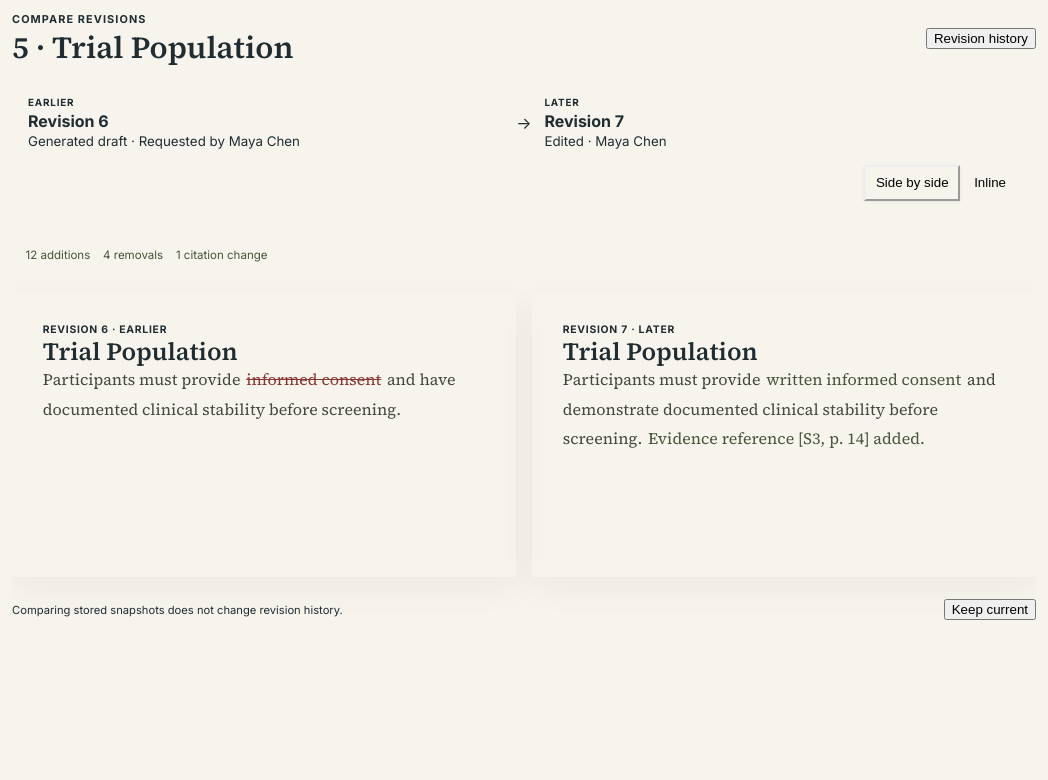
Scenario: RevisionCompare and RestoreRevisionDialog › renders semantic segments, exact counts, and switches view
Expected: the text "informed consent" is shown, left=244, top=367, right=383, bottom=391
Expected: the text "written informed consent" is shown, left=764, top=367, right=963, bottom=391
Click the button "Inline".
click(990, 183)  # box left=962, top=165, right=1018, bottom=201
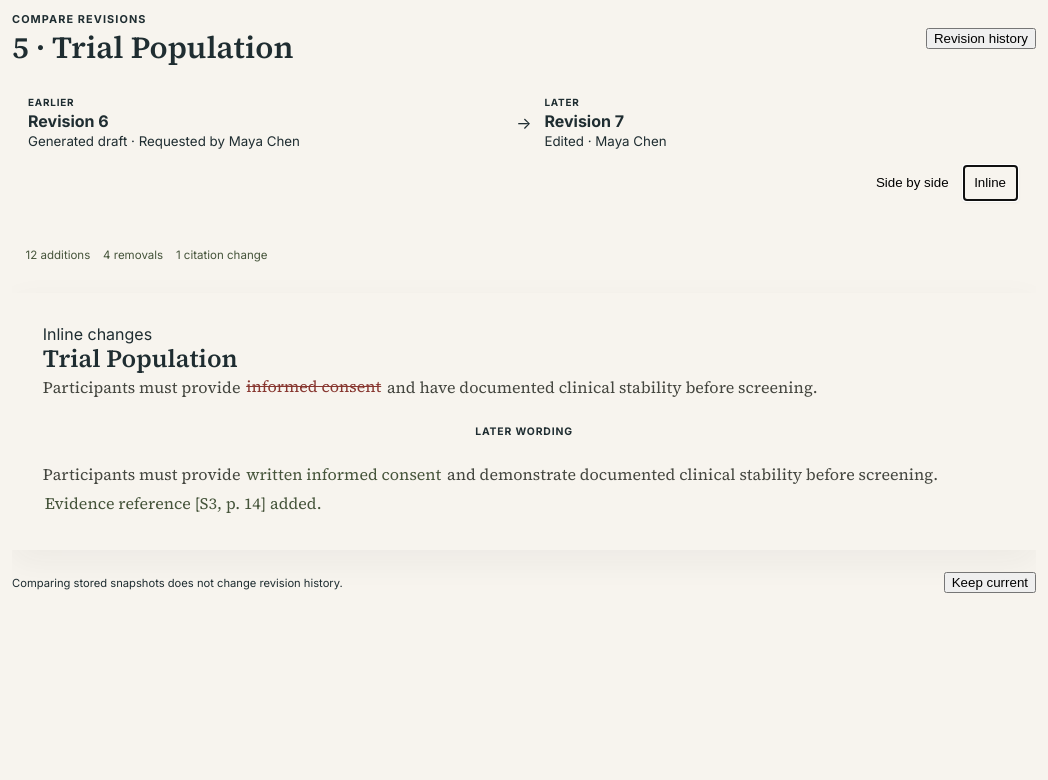
Expected: the text "Inline changes" is shown, left=43, top=324, right=152, bottom=344
